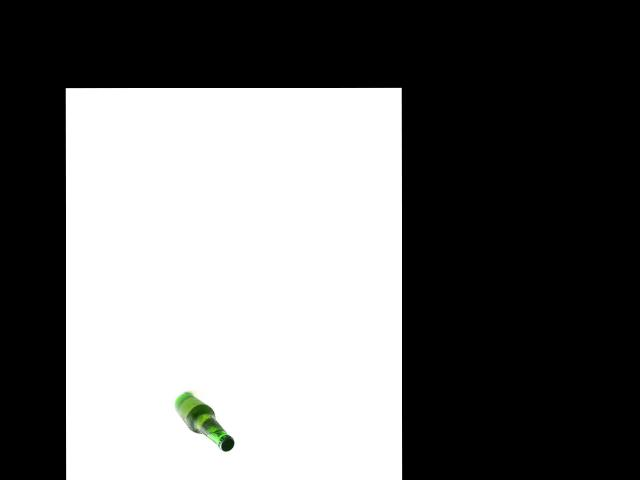beer: (174, 392, 235, 451)
